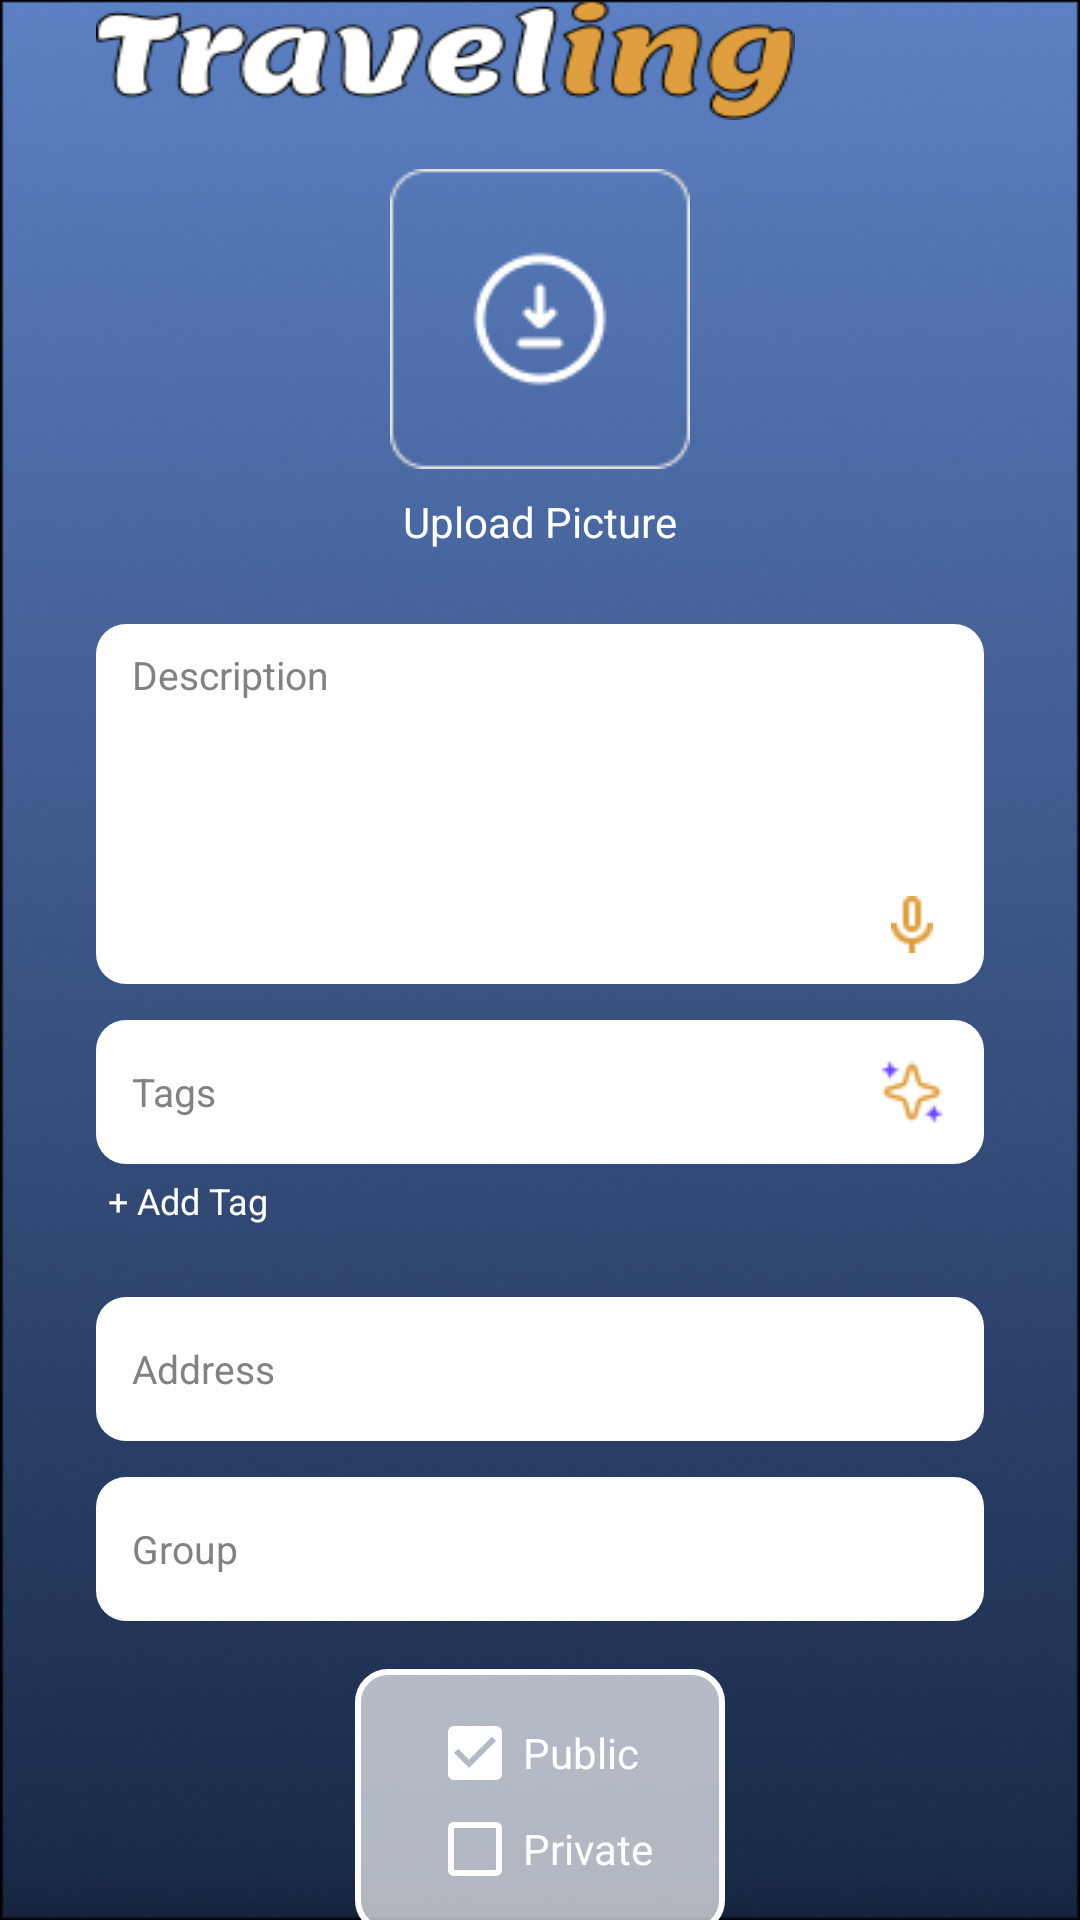

Icon bounding boxes for this 1080px×1920px phone screenshot, format (x1, y1, x2, y2):
ai star: (881, 1061, 943, 1123)
mic: (891, 896, 933, 953)
post frame: (390, 169, 690, 469)
